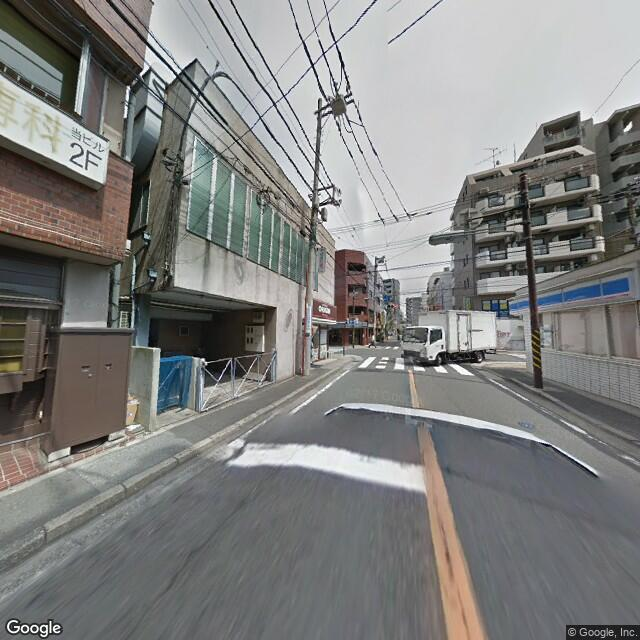lawson: (509, 264, 637, 317)
